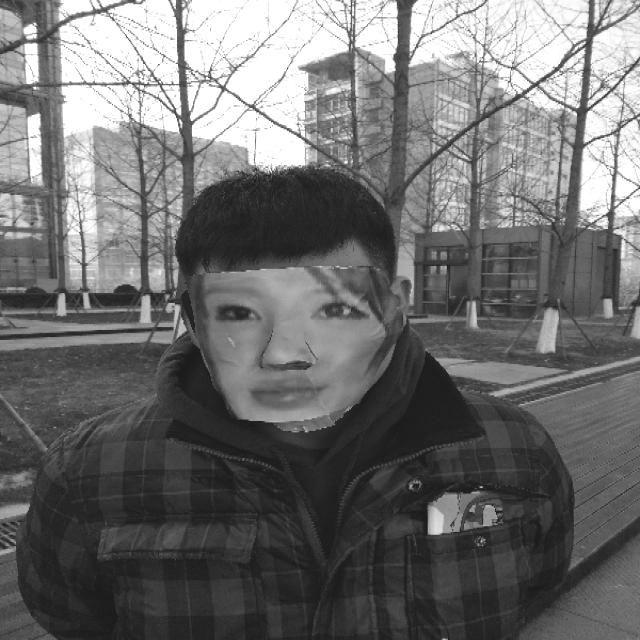fake: (180, 162, 398, 438)
